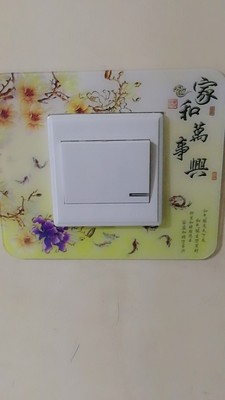switch: (55, 136, 155, 207)
